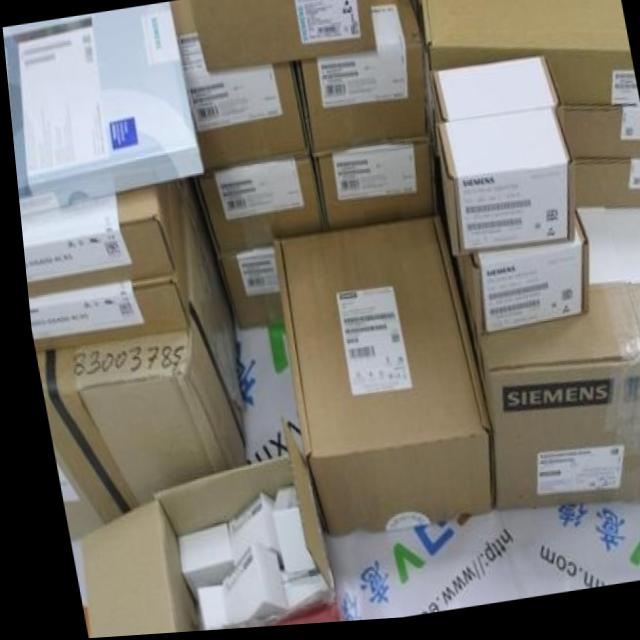box: (29, 180, 236, 539), (267, 221, 485, 539), (2, 3, 200, 215), (459, 290, 640, 517), (414, 0, 637, 159), (22, 183, 184, 353), (169, 1, 306, 174), (293, 0, 422, 161), (434, 113, 570, 262), (16, 184, 169, 297), (459, 214, 583, 341), (187, 0, 375, 74), (189, 157, 320, 257), (309, 146, 432, 235), (428, 59, 560, 128), (210, 247, 276, 330), (209, 547, 276, 625), (166, 525, 222, 606), (559, 114, 640, 167), (216, 495, 271, 570), (260, 488, 304, 575), (571, 169, 640, 215), (185, 588, 216, 632)
